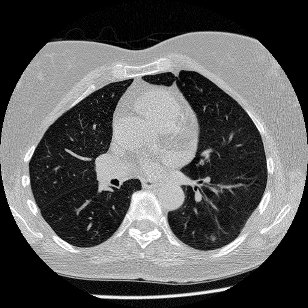nodule: (210, 235, 216, 241)
